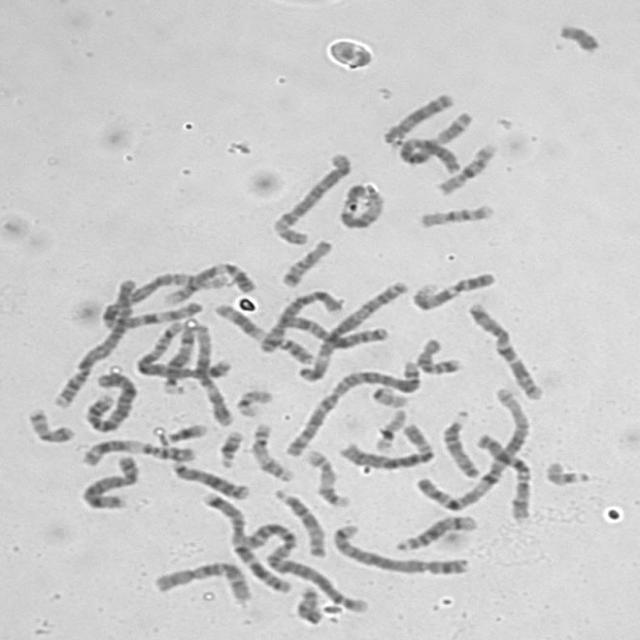A1: (408, 381, 533, 514), (96, 269, 228, 330)
A2: (281, 356, 424, 459), (234, 518, 372, 614)
A3: (291, 275, 411, 383), (392, 106, 474, 173)
B4: (46, 272, 140, 410), (79, 367, 140, 434)
B5: (326, 519, 471, 577), (128, 320, 233, 380)
C10: (470, 428, 535, 522), (147, 556, 256, 605)
C11: (212, 301, 318, 369), (75, 434, 201, 466)
C12: (185, 318, 237, 427), (338, 184, 384, 230)
C6: (266, 148, 355, 247), (332, 418, 438, 472)
C7: (194, 486, 294, 596), (461, 298, 546, 402)
C8: (253, 284, 346, 355), (74, 449, 142, 512)
C9: (156, 257, 258, 306), (405, 266, 497, 312)
D13: (376, 87, 456, 147), (165, 456, 252, 502)
D14: (389, 509, 480, 553), (156, 318, 196, 396)
D15: (268, 484, 328, 560), (436, 406, 483, 480)
E16: (431, 138, 500, 196), (413, 199, 495, 229)
E17: (300, 444, 353, 509), (246, 418, 296, 484)
E18: (275, 235, 334, 288), (410, 332, 463, 376)
F19: (367, 404, 409, 453), (229, 384, 275, 419)
F20: (20, 403, 76, 444), (298, 585, 324, 625)
G21: (156, 417, 210, 446), (212, 425, 245, 470)
G22: (539, 457, 592, 487), (365, 381, 411, 409)
X: (270, 308, 389, 350)
Y: (552, 18, 602, 54)
